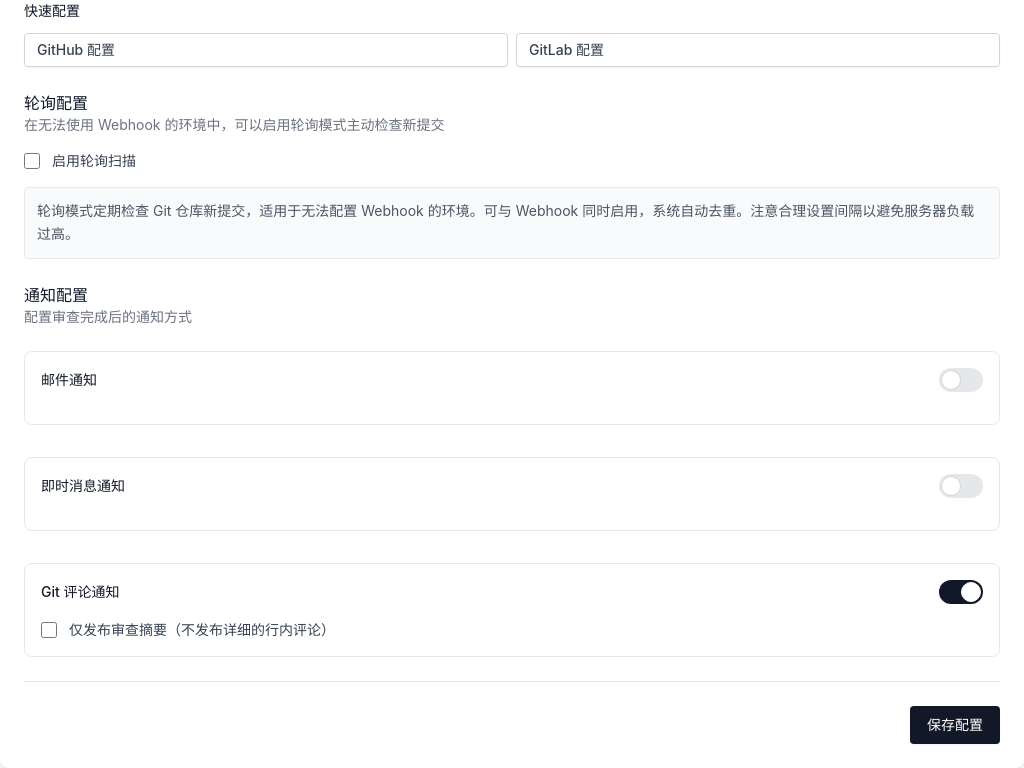
Test: ConfigForm › 应该在保存时显示加载状态
The width and height of the screenshot is (1024, 768).
(page scrolled)
Click the button "保存配置" at (955, 724), box [910,706,1000,744]
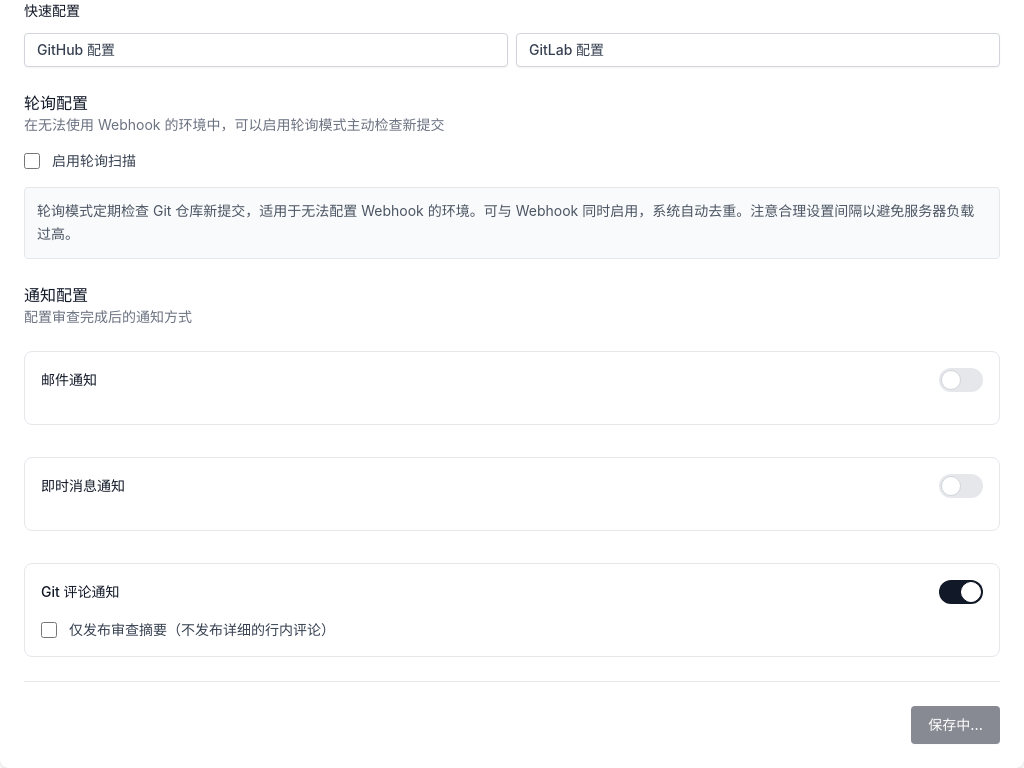
expect the button "保存中..." is disabled: met, box [911,706,1000,744]
